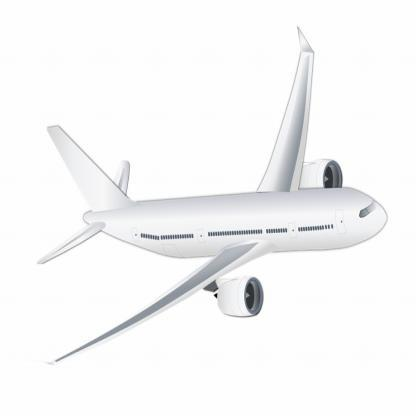CIV_Plane: (39, 24, 390, 387)
